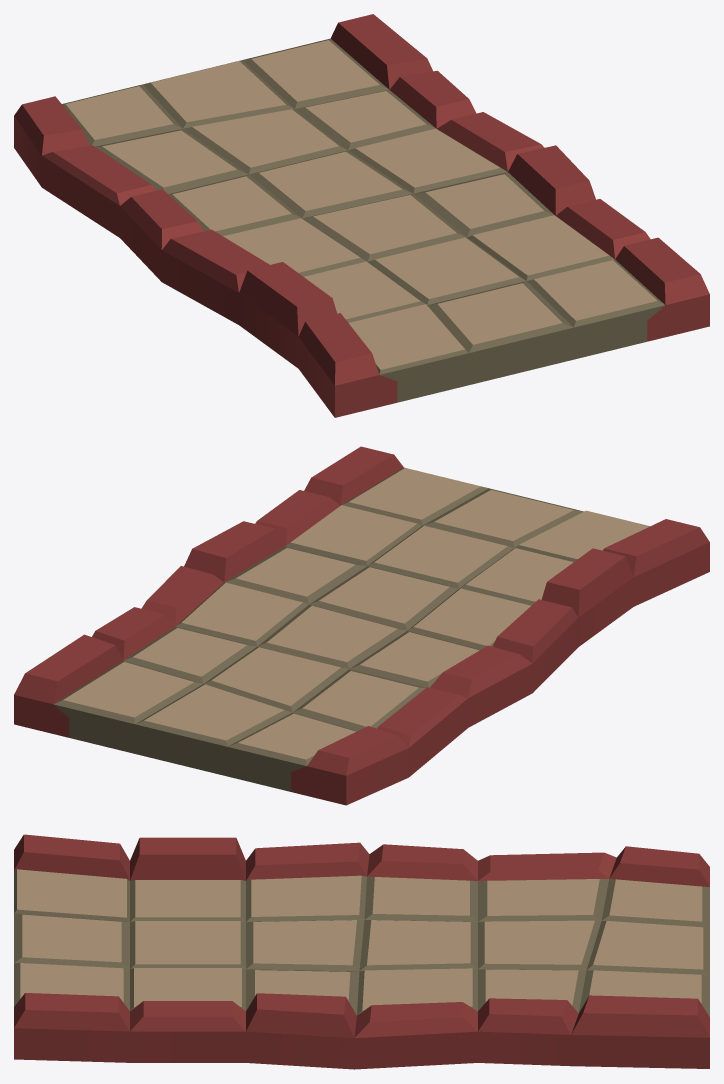
File: roadstraight.fbx
3 renders of one model, top to bottom at view 1: azimuth 30°, elevation 25°; view 2: azimuth 150°, elevation 25°; view 3: azimuth 270°, elevation 25°, orthographic. The views are drawn at different scales.
Visible parts, largest first — view 1: pCube1; view 2: pCube1; view 3: pCube1.
Boxes of the visible parts, x1,y1,x2,y2 form: pCube1: (14, 14, 709, 417); pCube1: (14, 446, 709, 805); pCube1: (14, 834, 709, 1069).
Size of the model in its own units: 169 by 23.49 by 264.
